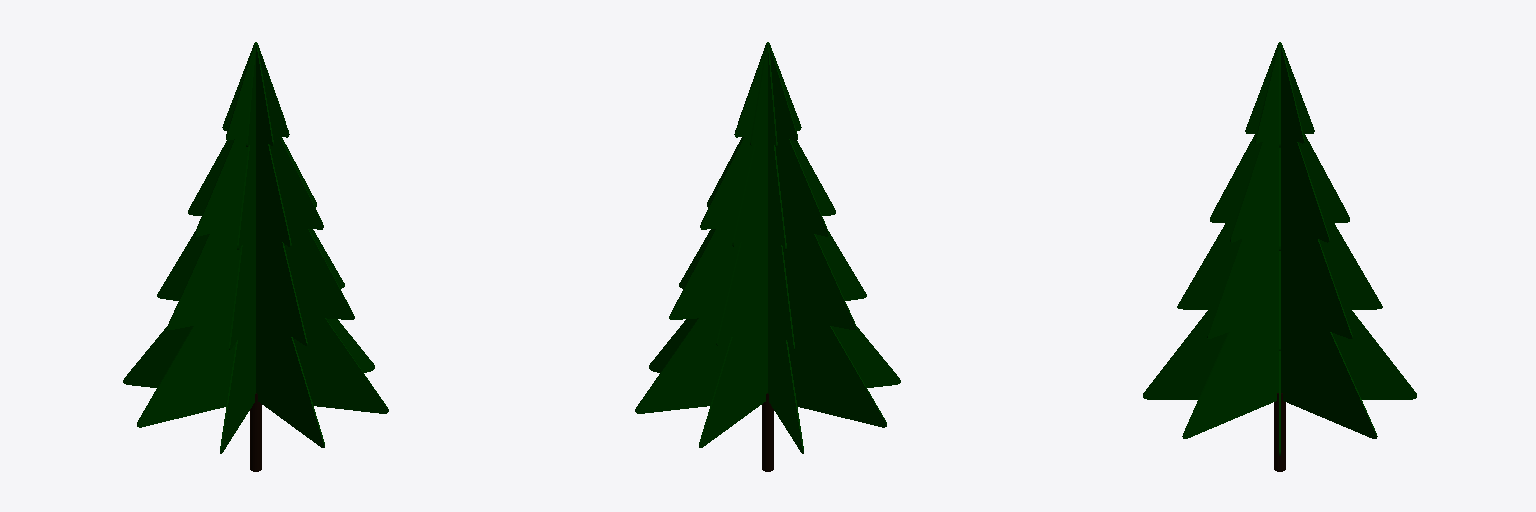
The model's file is Pine_Tree.obj.
3 renders of one model, left to right at view 1: azimuth 30°, elevation 25°; view 2: azimuth 150°, elevation 25°; view 3: azimuth 270°, elevation 25°, orthographic.
Parts seen in each view (by area): view 1: Shape004, Shape1, Shape002, Shape003, Cylinder001; view 2: Shape003, Shape1, Shape002, Shape004, Cylinder001; view 3: Shape002, Shape003, Shape004, Shape1, Cylinder001.
Part boxes in pixels (left/top/right/bottom): Shape004: left=123, top=43, right=388, bottom=413; Shape1: left=137, top=43, right=374, bottom=427; Shape002: left=256, top=42, right=324, bottom=447; Shape003: left=220, top=42, right=255, bottom=453; Cylinder001: left=250, top=393, right=261, bottom=471; Shape003: left=635, top=43, right=900, bottom=413; Shape1: left=649, top=43, right=886, bottom=427; Shape002: left=699, top=42, right=767, bottom=447; Shape004: left=768, top=42, right=803, bottom=453; Cylinder001: left=762, top=393, right=773, bottom=471; Shape002: left=1143, top=45, right=1416, bottom=399; Shape003: left=1280, top=42, right=1377, bottom=438; Shape004: left=1182, top=42, right=1279, bottom=438; Shape1: left=1279, top=43, right=1280, bottom=455; Cylinder001: left=1274, top=393, right=1285, bottom=471.
Size of the model in its own units: 13.12 by 22.51 by 13.12.